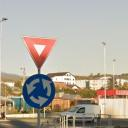preferencia: (19, 32, 59, 72)
